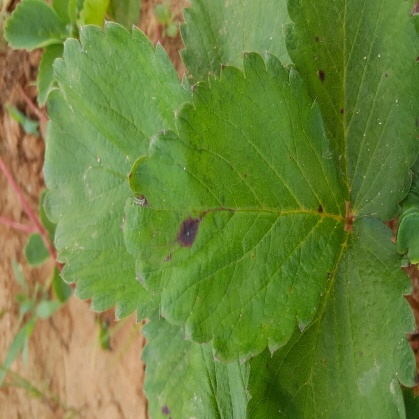Leaf_Spot: (123, 53, 350, 367), (139, 0, 253, 359), (246, 0, 418, 218), (283, 199, 418, 418)
